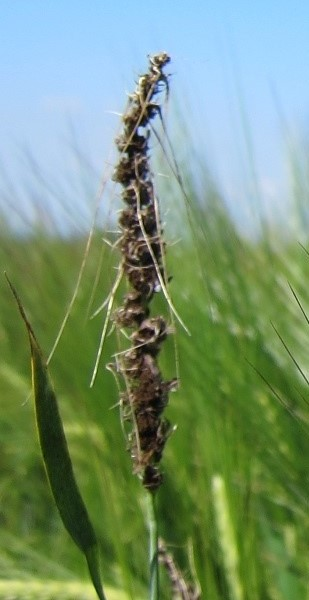Wheat Loose Smut: (91, 63, 205, 505)
